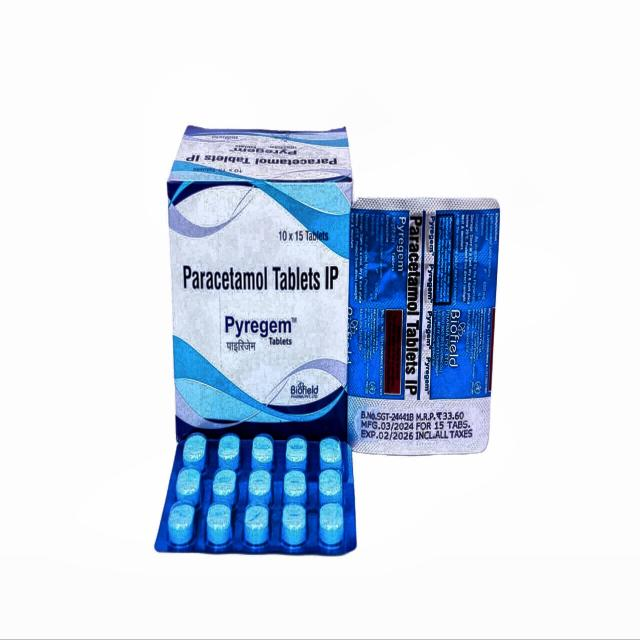Paracetamol: (181, 250, 342, 347), (398, 209, 437, 403)
